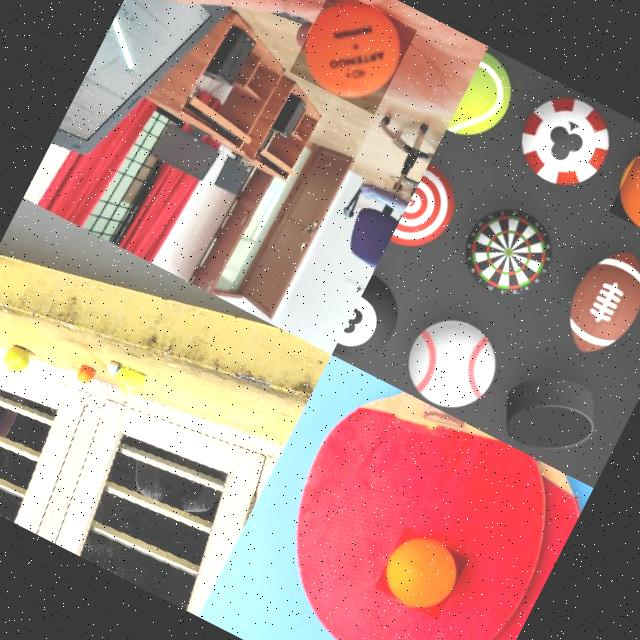ping-pong-ball: (288, 0, 417, 115), (374, 525, 469, 620), (607, 135, 640, 250), (74, 364, 96, 386)
